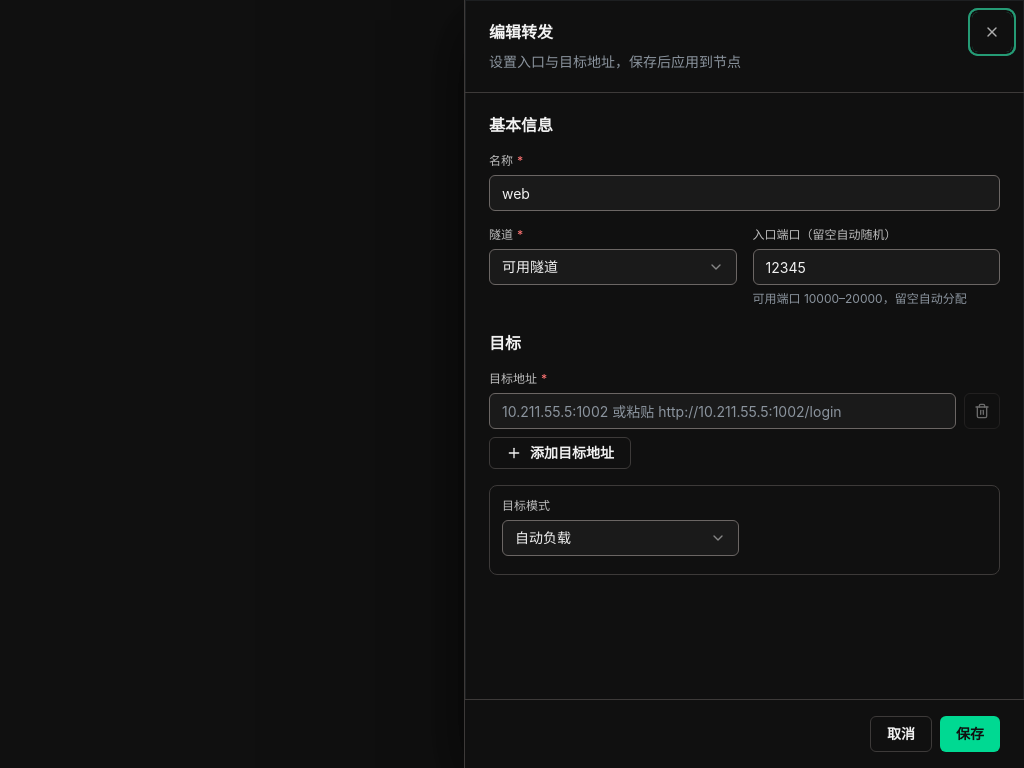
Test case: regular-user forward form › reports missing targets inline and focuses the target field
Step 1. Click the button "保存" → (970, 734), box [940, 716, 1000, 752]
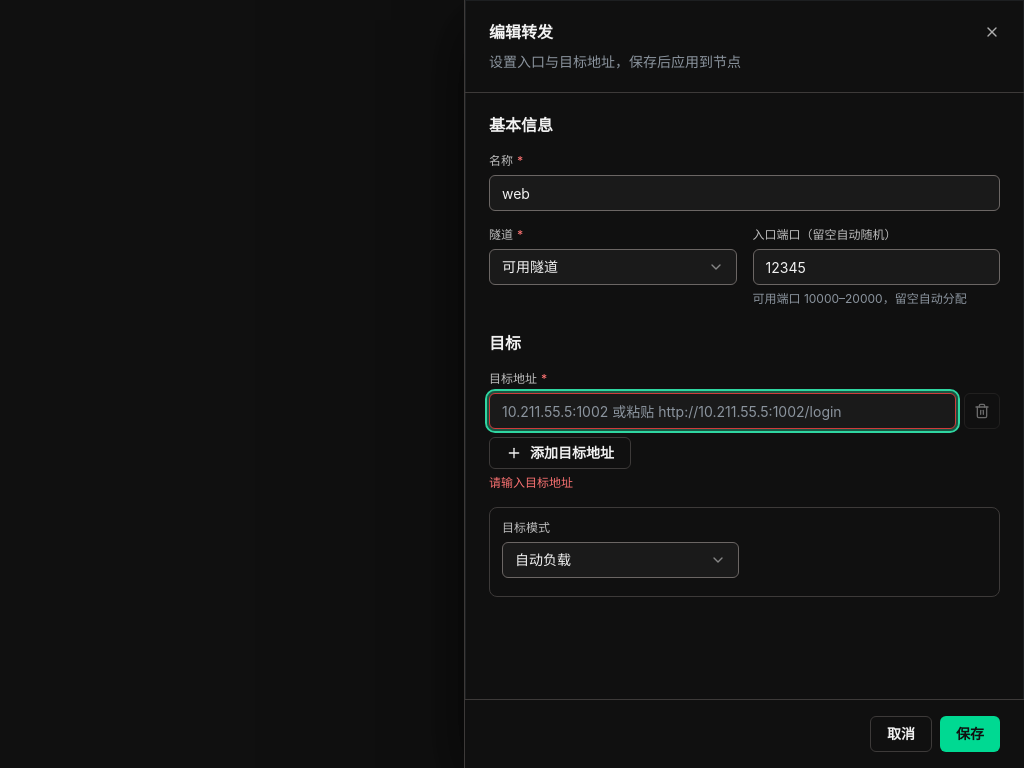
Expected: the text "请输入目标地址" is shown, [489, 475, 573, 490]
